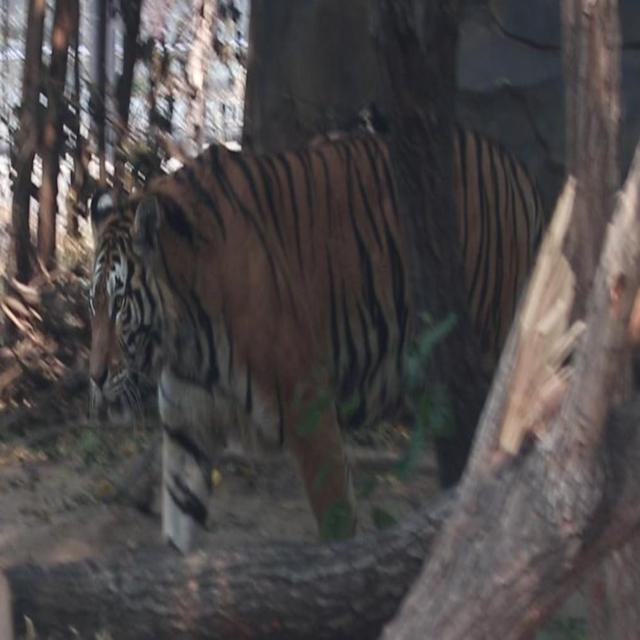tiger: (88, 106, 565, 555)
